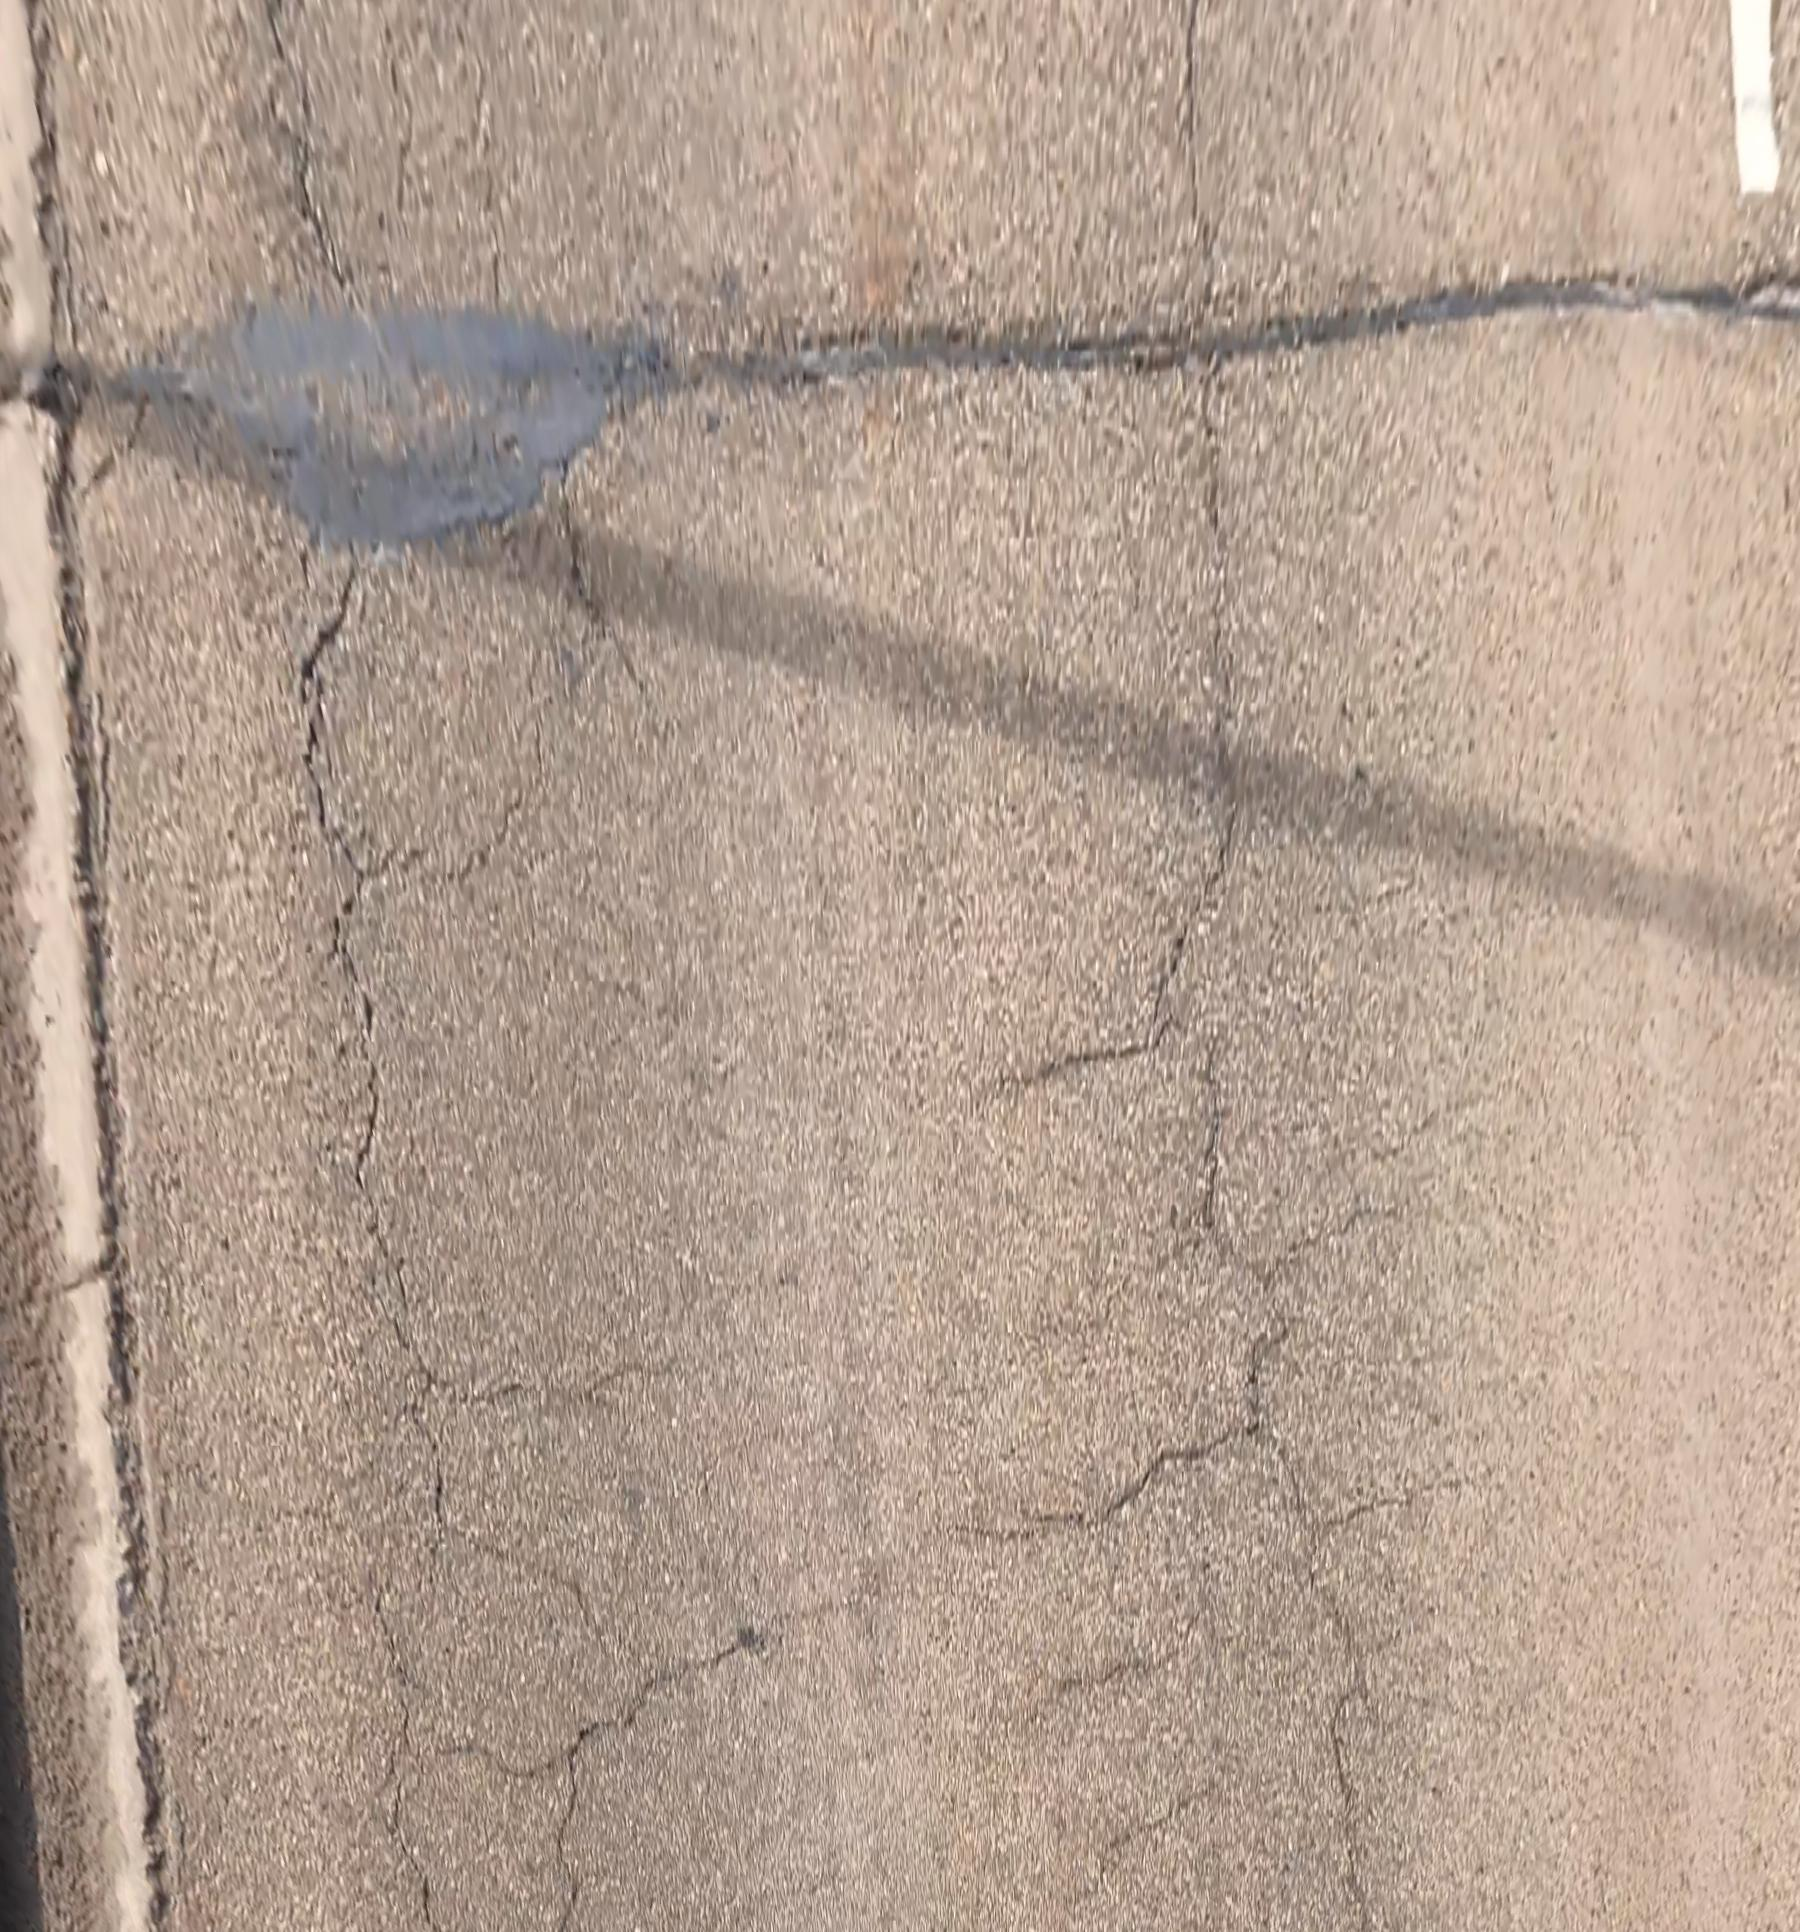pothole_patch_poor: (129, 306, 611, 543)
